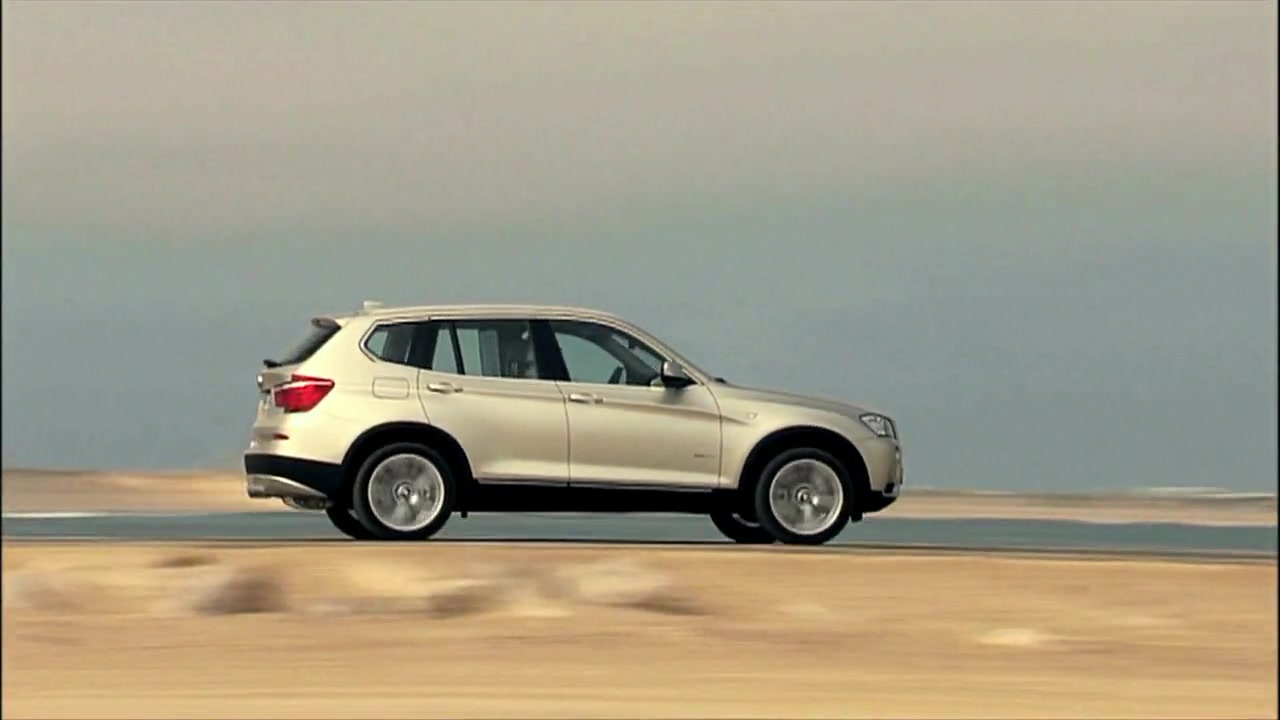car: (242, 305, 905, 548)
